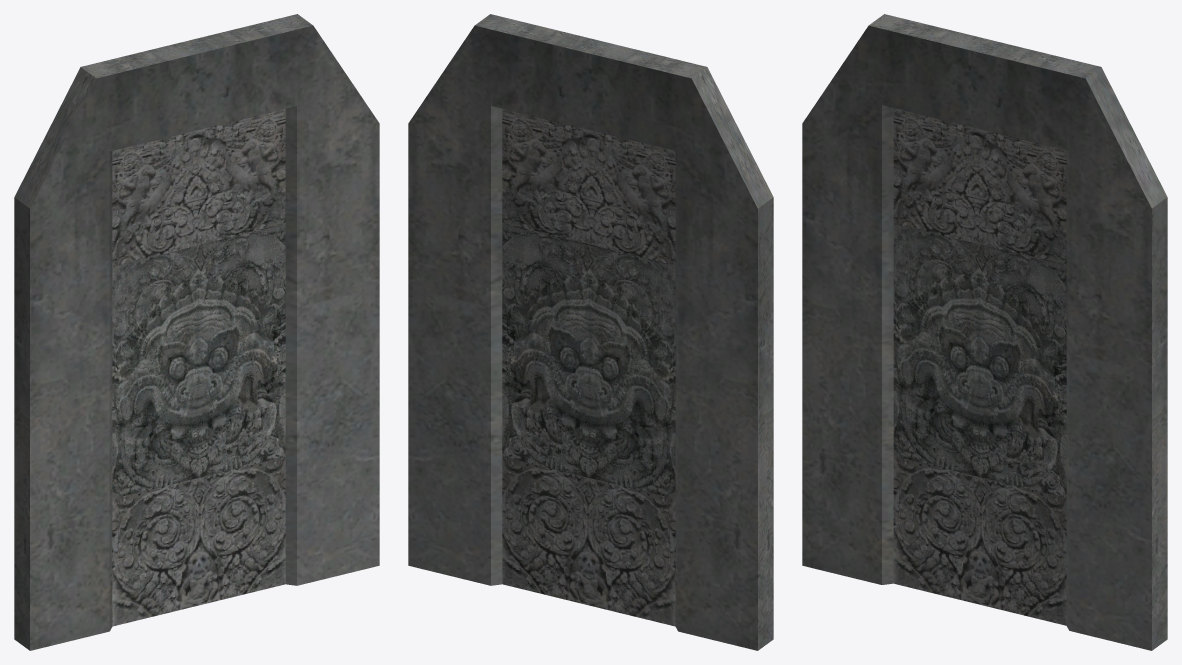
Rendered from door_djt_emperor_l0.fbx.
The picture shows the model from 3 angles, left to right: view 1: azimuth 30°, elevation 25°; view 2: azimuth 150°, elevation 25°; view 3: azimuth 330°, elevation 25°; orthographic projection.
Visible parts, largest first — view 1: mesh_node; view 2: mesh_node; view 3: mesh_node.
Part boxes in pixels (x1,y1,x2,y2): mesh_node: (14,14,379,650); mesh_node: (408,14,773,650); mesh_node: (802,14,1167,650).
Size of the model in its own units: 3.29 by 5 by 0.2575.
